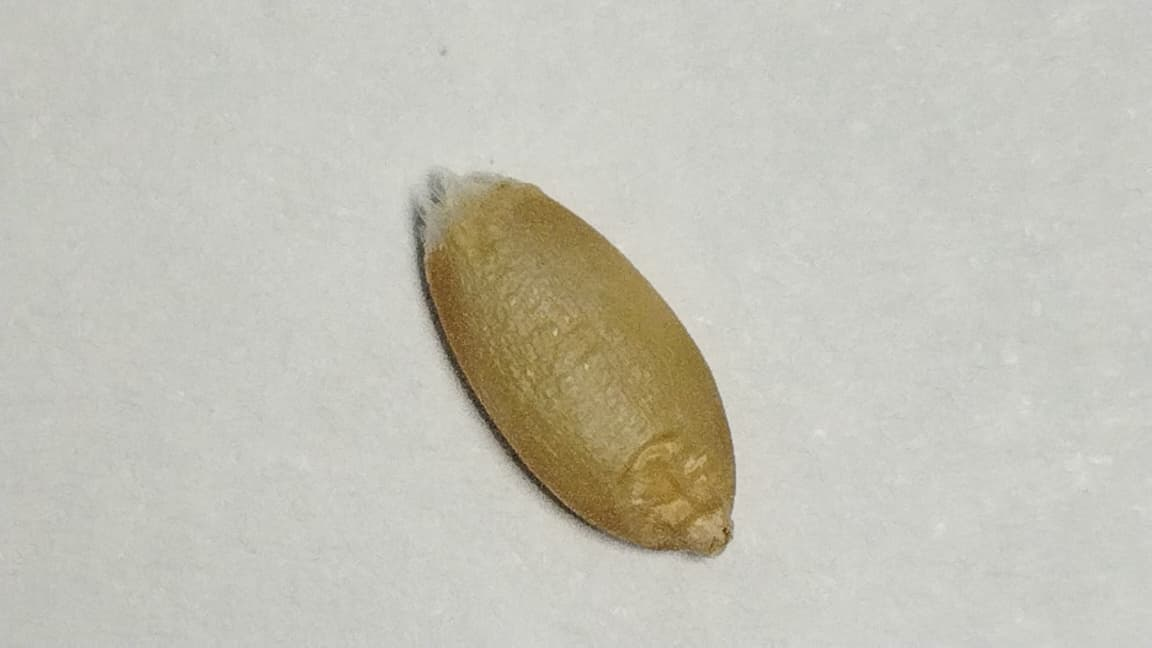healthy: (420, 174, 733, 554)
